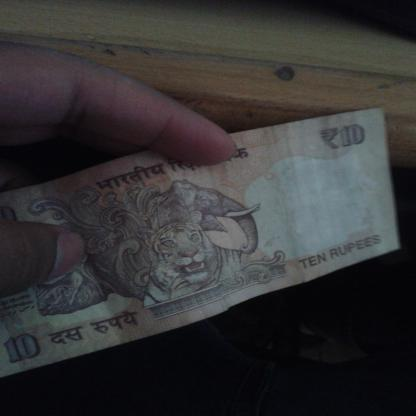Old10Back: (0, 107, 401, 378)
